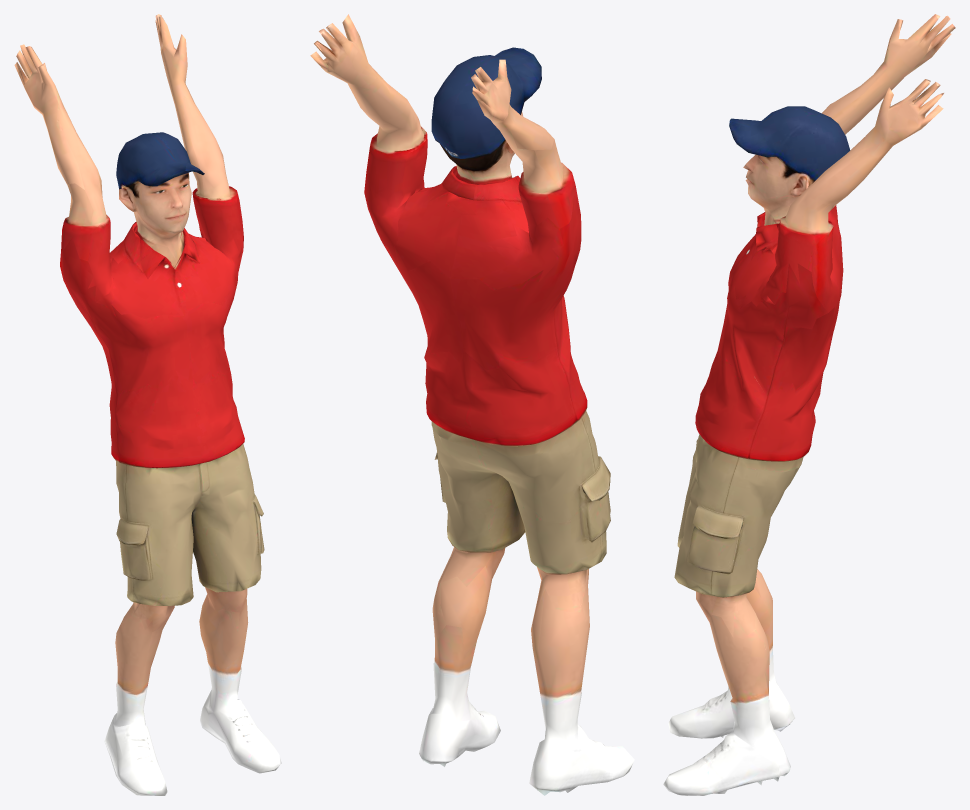
File: fan_dad_stand.glb
The picture shows the model from 3 angles, left to right: view 1: azimuth 30°, elevation 25°; view 2: azimuth 150°, elevation 25°; view 3: azimuth 270°, elevation 25°; orthographic projection. The views are drawn at different scales.
Visible parts, largest first — view 1: char1; view 2: char1; view 3: char1.
Part boxes in pixels (x1,y1,x2,y2): char1: (14, 14, 281, 795); char1: (310, 14, 634, 795); char1: (663, 14, 955, 795).
Bounding box in the file's own units: 0.5035 × 1.88 × 0.6939.
1 material, 1 textured.
